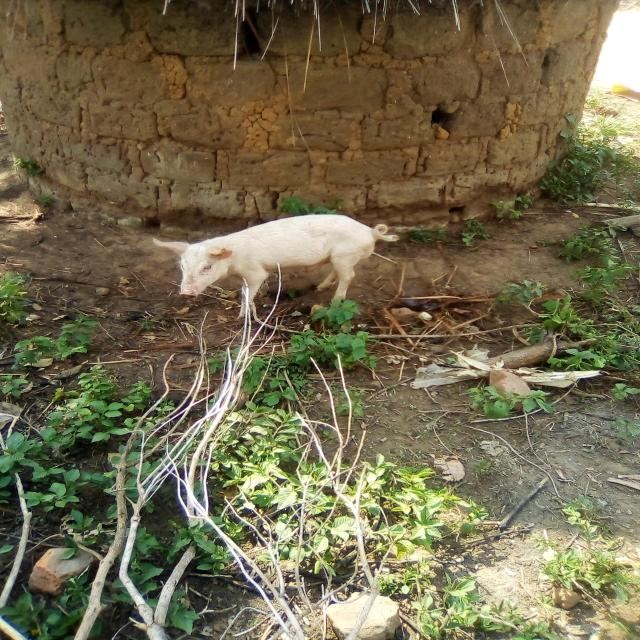pig: (130, 200, 439, 345)
